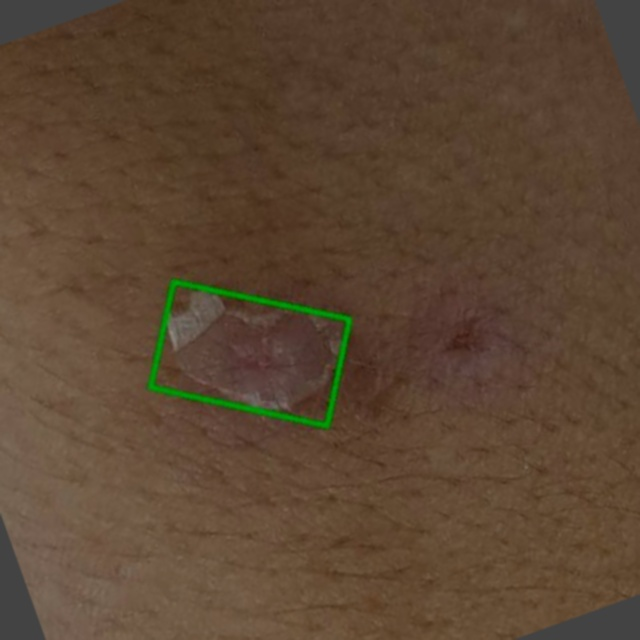Scabies: (149, 280, 349, 425)
